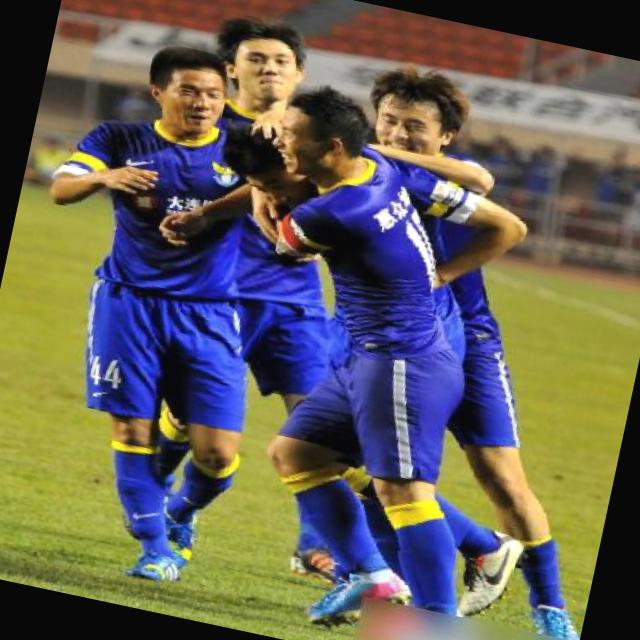Person: (162, 101, 532, 640), (0, 17, 275, 588)
